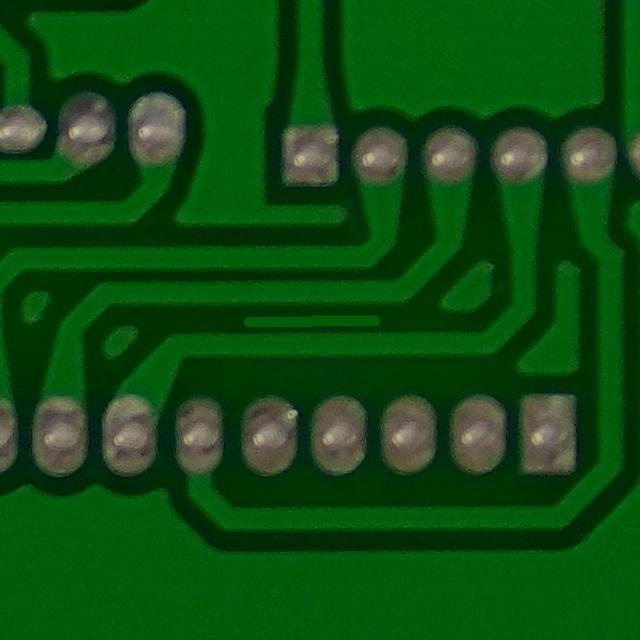spurious_copper: (234, 289, 406, 351)
